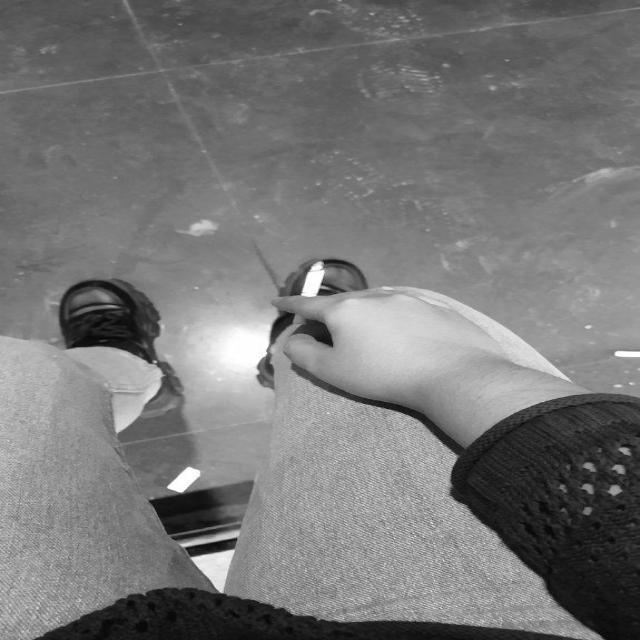rokok: (297, 259, 331, 309)
